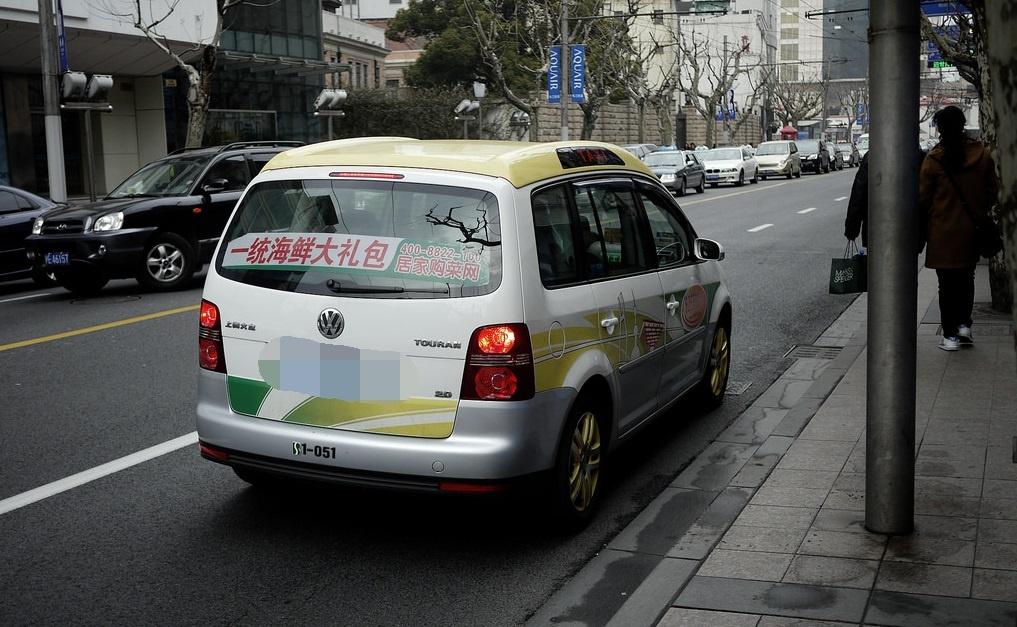minibus: (195, 129, 746, 517)
